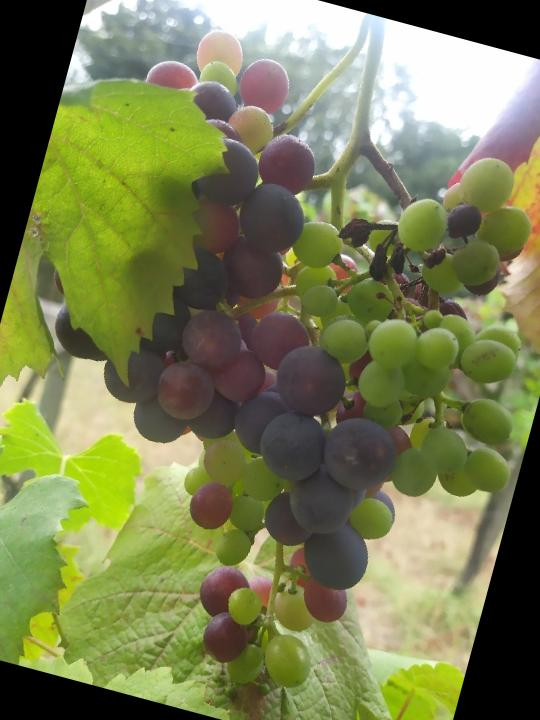grape: (0, 0, 540, 720)
